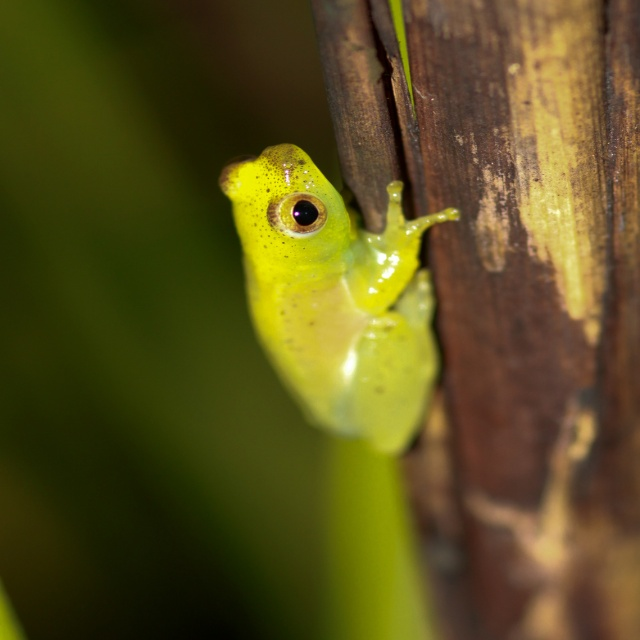Frog: (219, 144, 462, 452)
